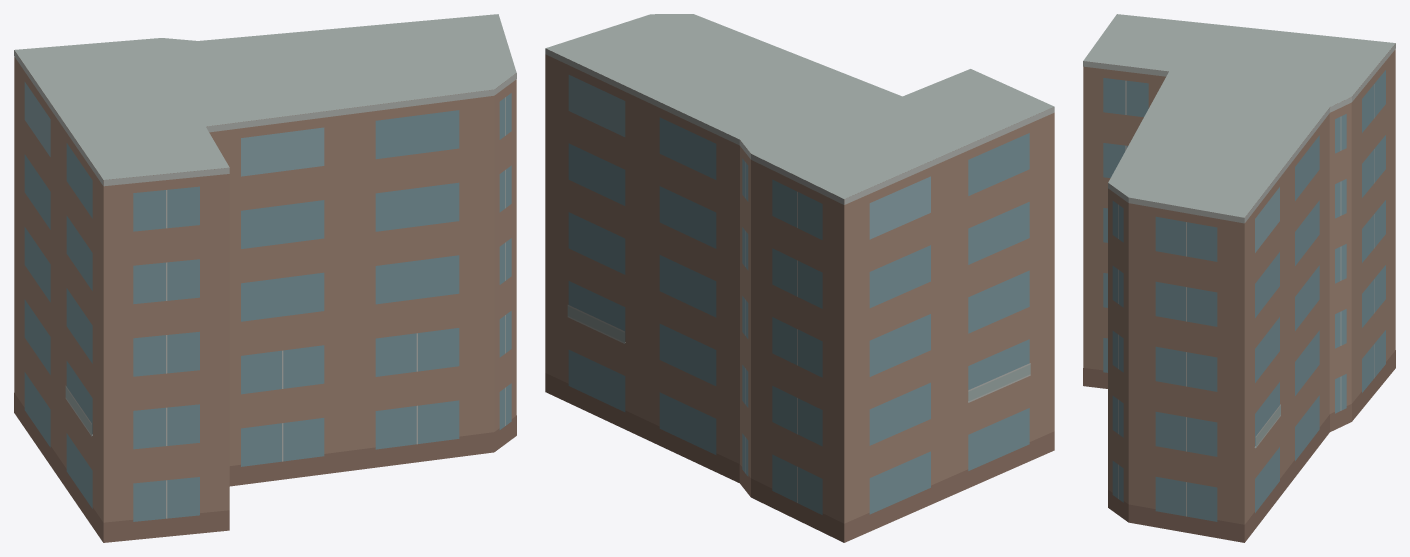
File: survey-upis-32460665.glb
The picture shows the model from 3 angles, left to right: view 1: azimuth 30°, elevation 25°; view 2: azimuth 150°, elevation 25°; view 3: azimuth 270°, elevation 25°; orthographic projection. The views are drawn at different scales.
Parts seen in each view (by area): view 1: survey-upis-32460665.tmp; view 2: survey-upis-32460665.tmp; view 3: survey-upis-32460665.tmp.
Boxes of the visible parts, <box> form: survey-upis-32460665.tmp: <box>14,14,516,542</box>; survey-upis-32460665.tmp: <box>545,14,1054,542</box>; survey-upis-32460665.tmp: <box>1083,14,1395,542</box>.
Bounding box in the file's own units: 18.97 × 14.1 × 12.3.
